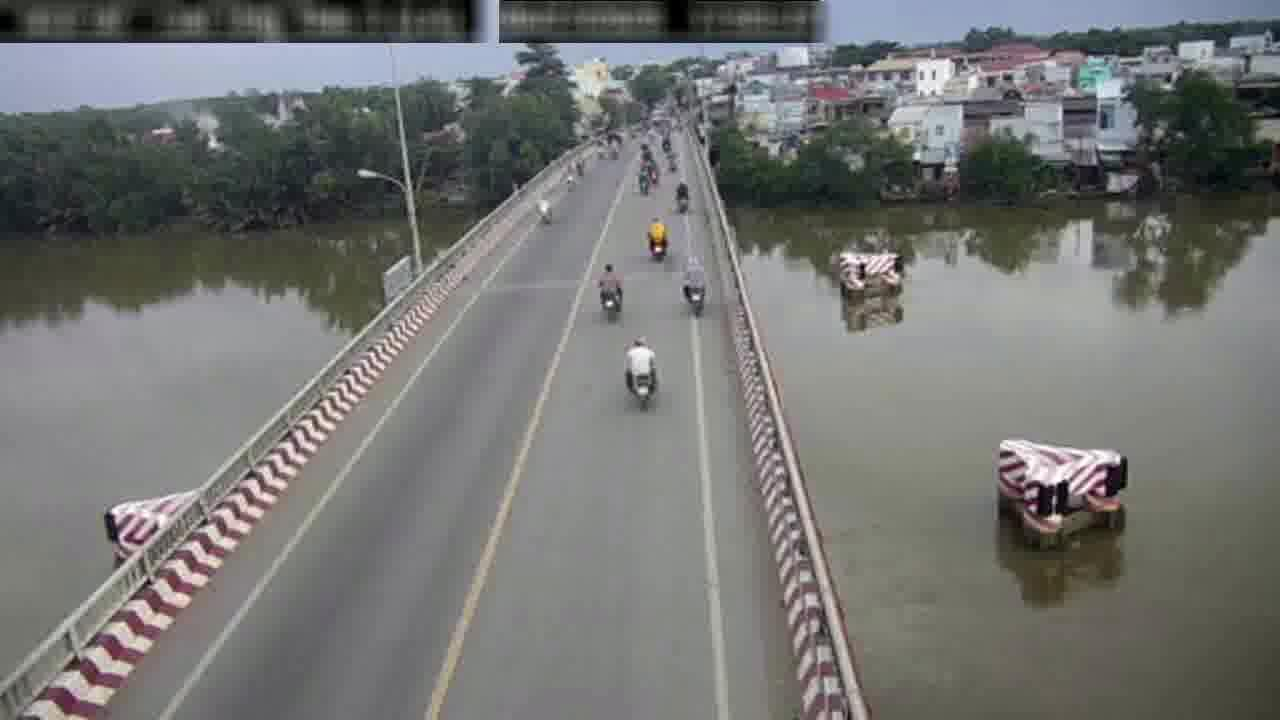motorbike: (623, 333, 658, 406), (681, 251, 708, 319), (599, 259, 624, 325), (647, 214, 670, 263), (536, 187, 553, 226), (635, 158, 652, 197), (675, 175, 689, 214)
